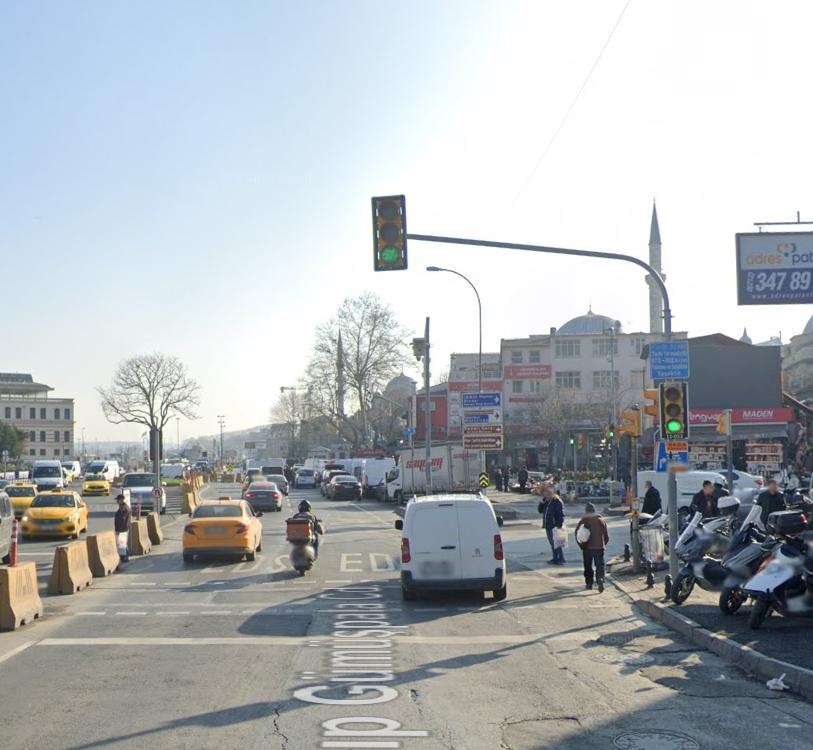greenlight: (367, 189, 413, 274), (656, 380, 694, 440)
